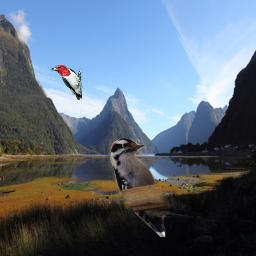Woodpecker: (110, 138, 203, 237), (50, 65, 83, 100)
